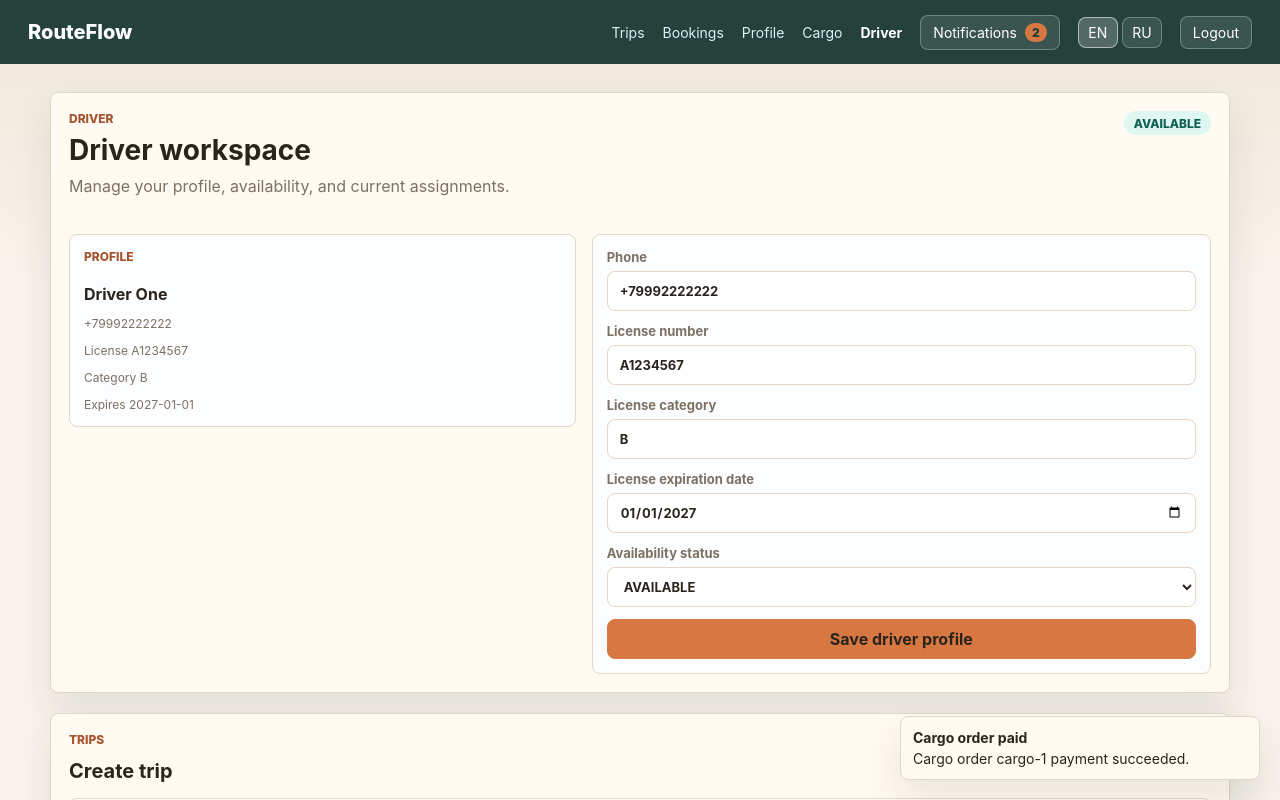
it: App routes › updates current driver profile availability
The width and height of the screenshot is (1280, 800).
Expected: the heading "Driver workspace" is shown, left=69, top=133, right=311, bottom=167
Select "UNAVAILABLE" in the dropdown labelled "Availability status" at coordinates (901, 587), box left=607, top=567, right=1196, bottom=607
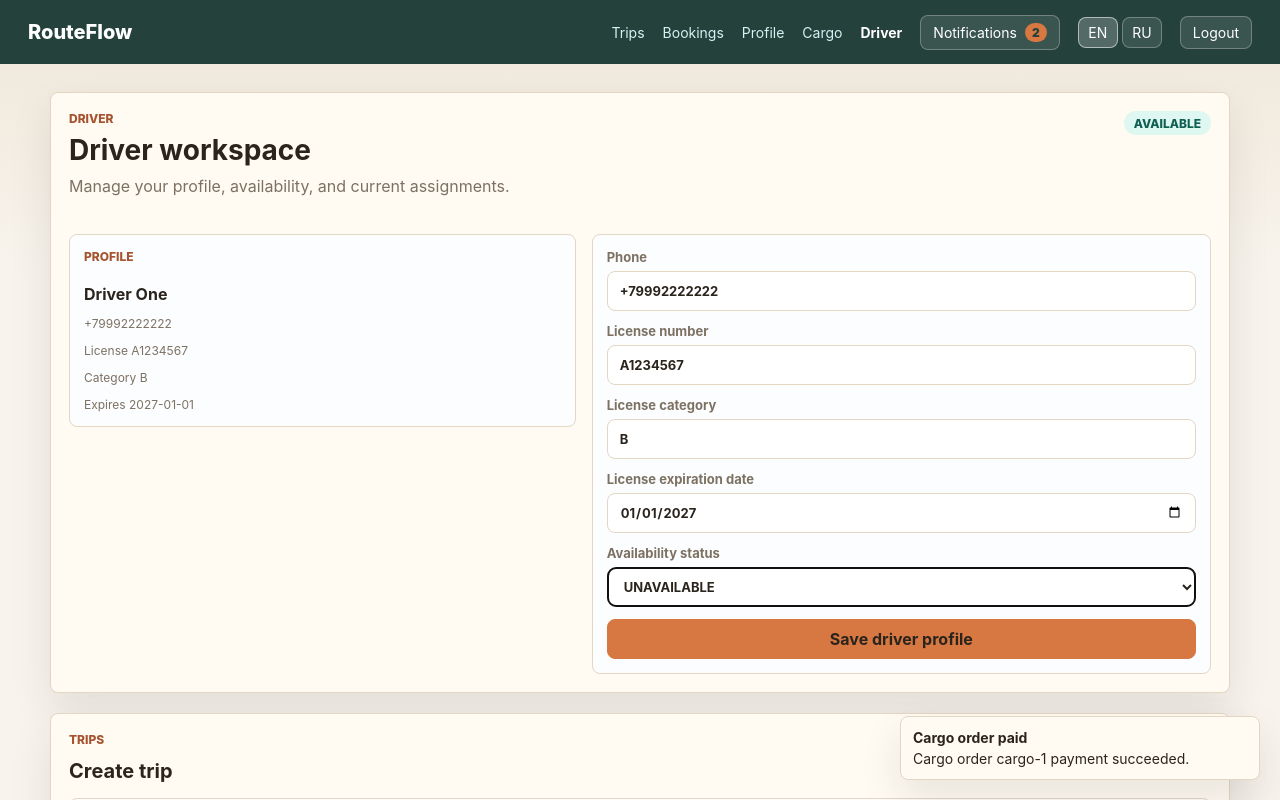
Click the button "Save driver profile" at coordinates (901, 639), box left=607, top=619, right=1196, bottom=659
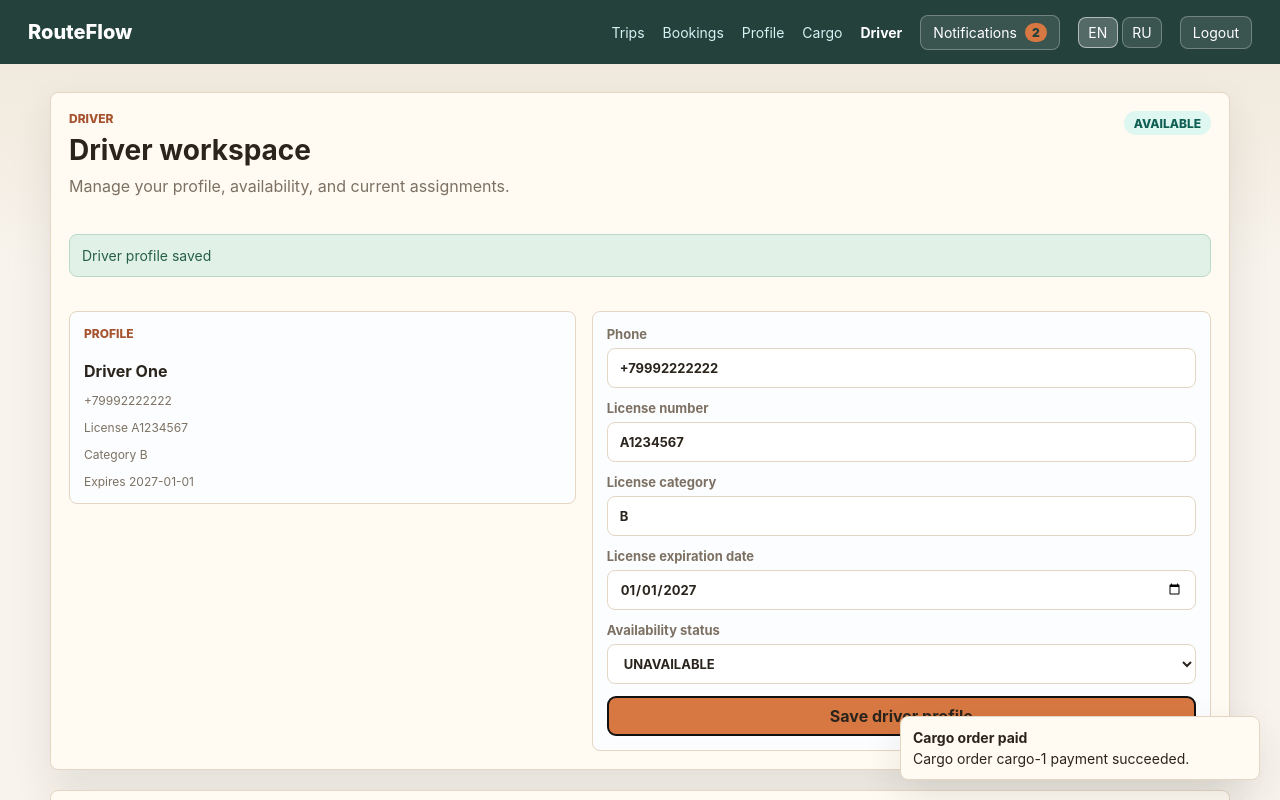
Expected: the text "Driver profile saved" is shown, left=69, top=234, right=1211, bottom=277
